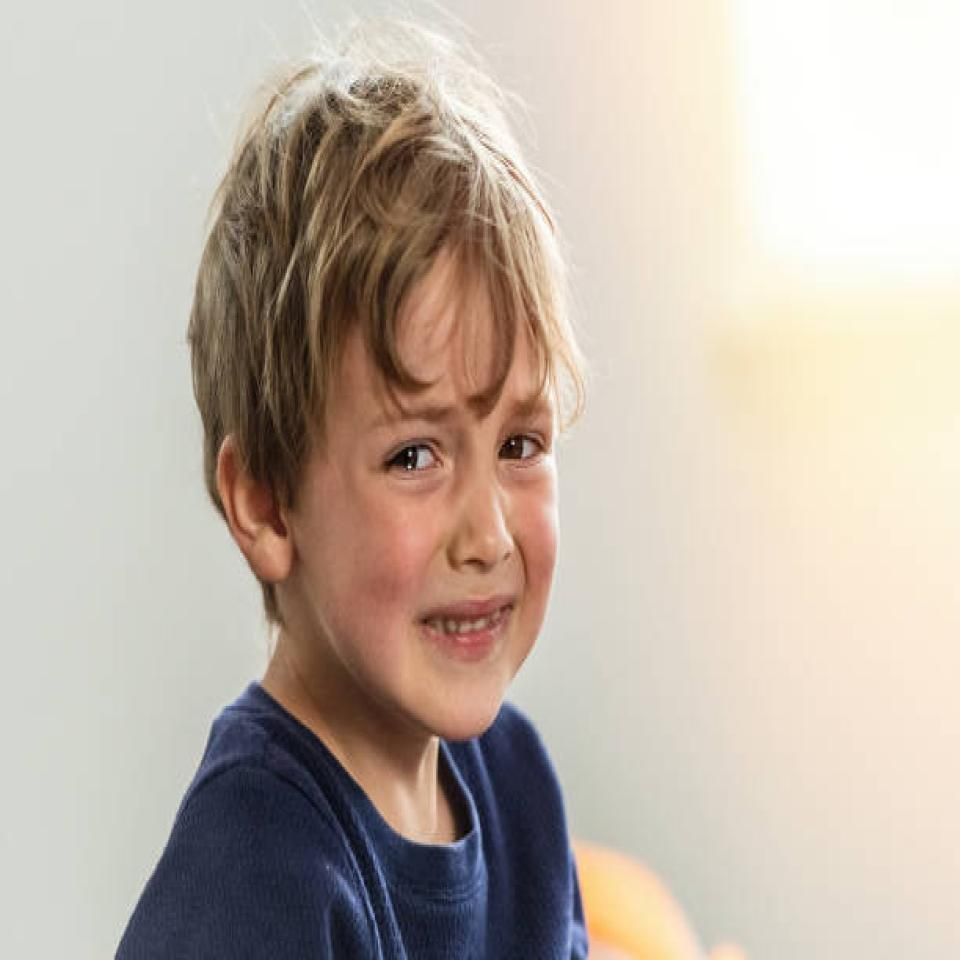Sadness: (308, 281, 556, 733)
